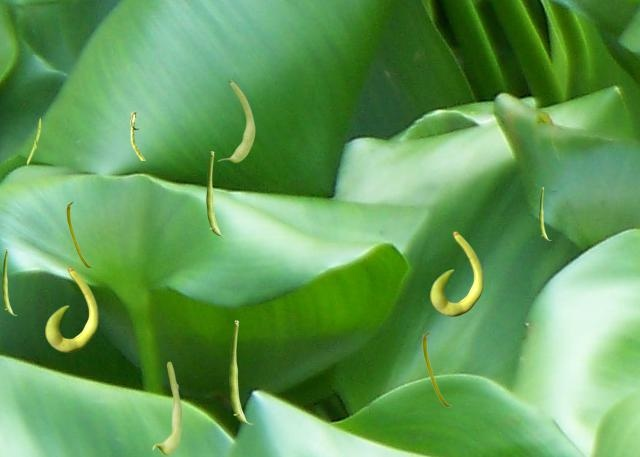french_bean: (45, 267, 97, 351), (430, 231, 482, 315), (217, 81, 254, 161), (152, 361, 181, 454), (229, 320, 252, 423), (422, 331, 450, 406), (66, 201, 91, 267), (206, 151, 225, 235), (2, 248, 16, 314), (26, 117, 40, 169), (130, 111, 144, 159), (539, 187, 550, 239)
